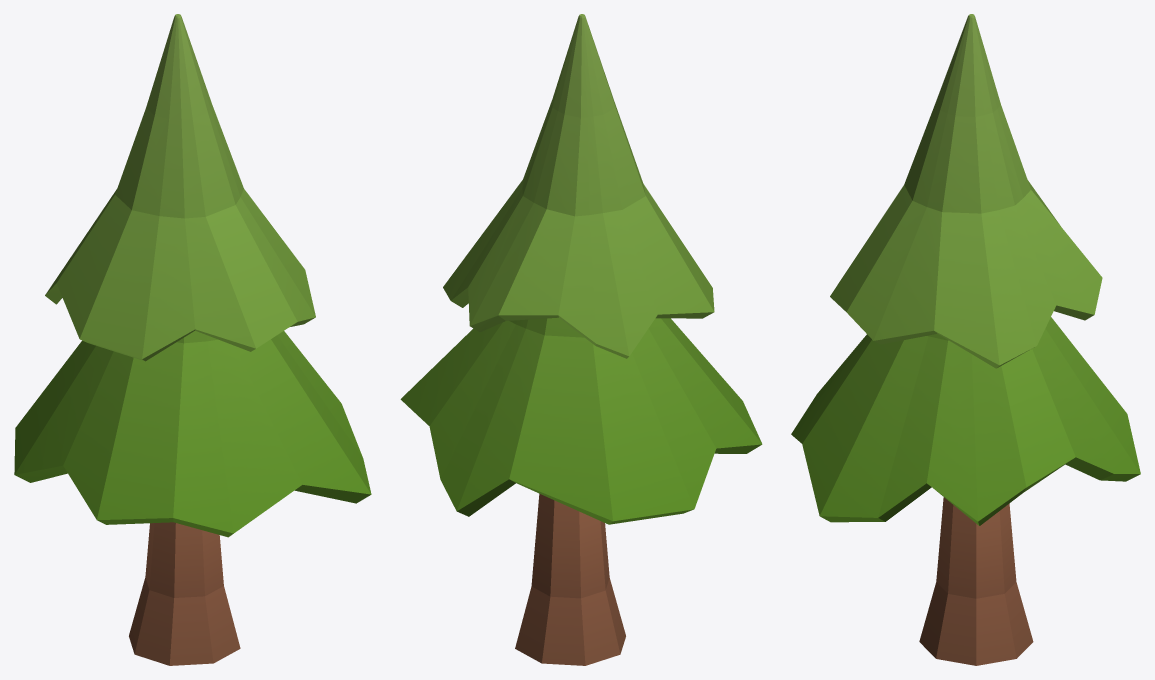
File: fir tree small.fbx
3 renders of one model, left to right at view 1: azimuth 30°, elevation 25°; view 2: azimuth 150°, elevation 25°; view 3: azimuth 270°, elevation 25°, orthographic.
Parts seen in each view (by area): view 1: fir tree small; view 2: fir tree small; view 3: fir tree small.
Boxes of the visible parts, bbox=[...] form: fir tree small: bbox=[14, 14, 371, 665]; fir tree small: bbox=[400, 14, 762, 665]; fir tree small: bbox=[791, 14, 1140, 665].
Bounding box in the file's own units: 201 × 397 × 202.
